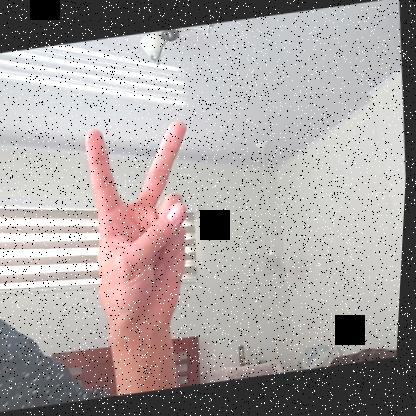V: (78, 113, 211, 348)
